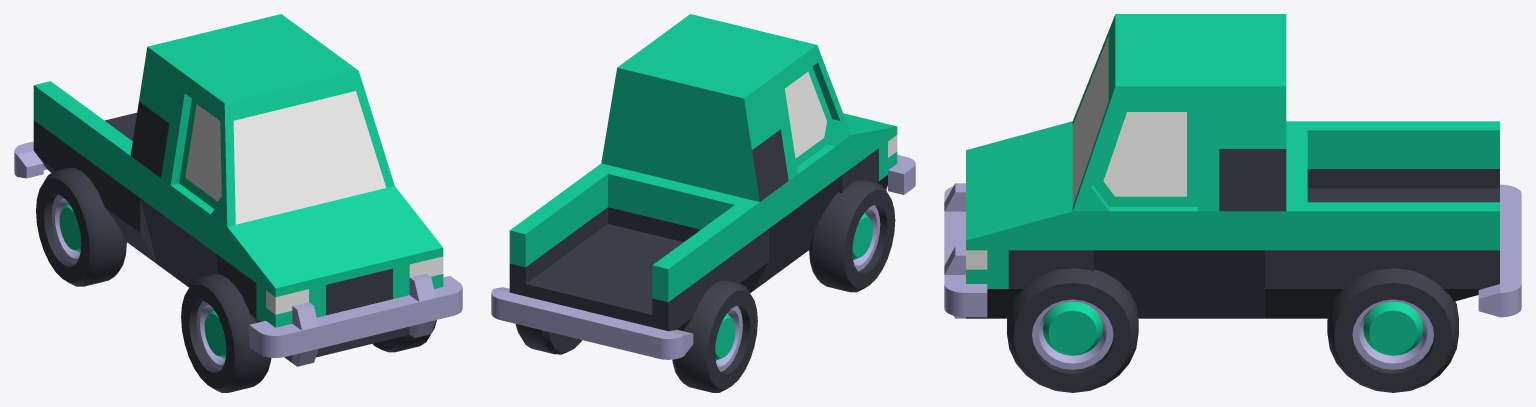
The model's file is GreenPickup.fbx.
3 renders of one model, left to right at view 1: azimuth 30°, elevation 25°; view 2: azimuth 150°, elevation 25°; view 3: azimuth 270°, elevation 25°, orthographic. The views are drawn at different scales.
Parts seen in each view (by area): view 1: mergedBlocks; view 2: mergedBlocks; view 3: mergedBlocks.
Part boxes in pixels (x1,y1,x2,y2): mergedBlocks: (14, 14, 462, 392); mergedBlocks: (491, 14, 915, 392); mergedBlocks: (944, 14, 1521, 392).
Size of the model in its own units: 12.16 by 15.08 by 27.
